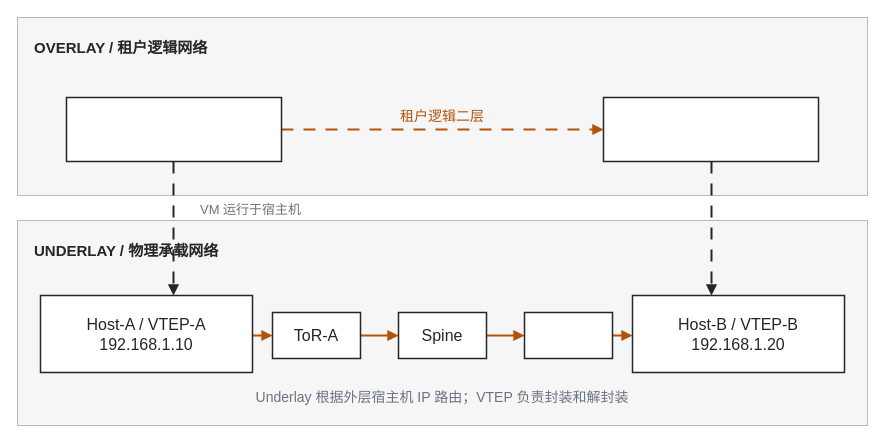
Some shapes in this 885 by 443 pixel diagram are drawn without their labels. The centre of each missing label's shape, as x and y in pixels:
"ToR-B" goes at (568,335).
"VM-A 10.0.1.10" goes at (173,129).
"VM-B 10.0.1.20" goes at (710,129).
